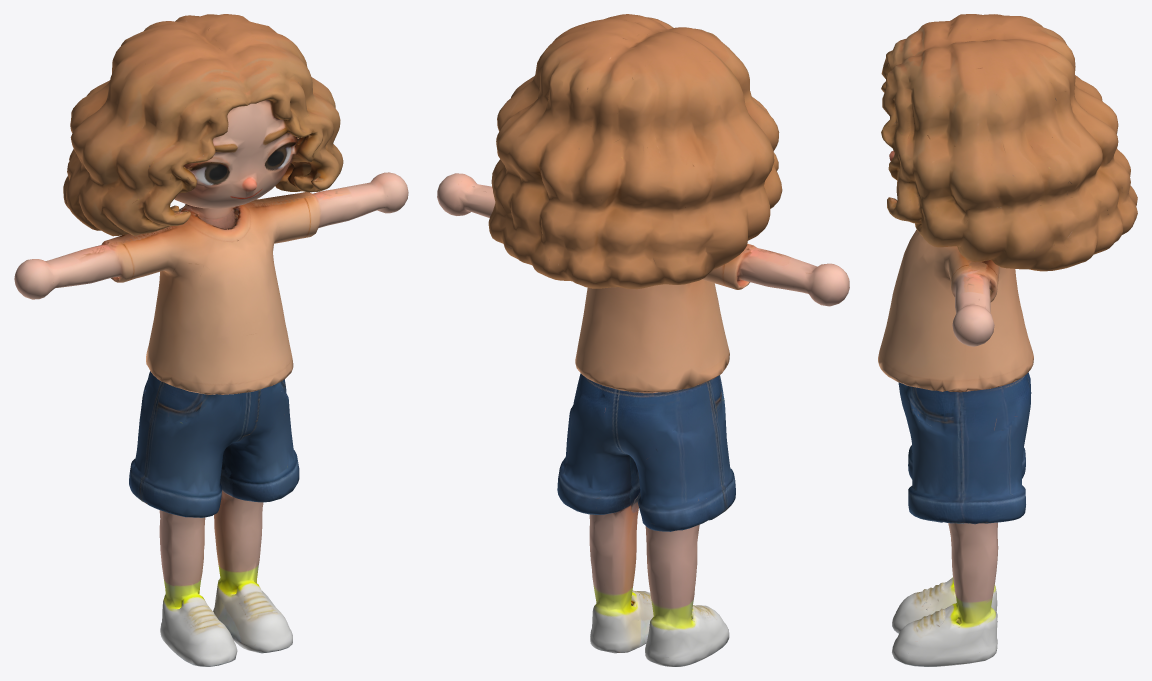
File: nb_guide_animated.fbx
The picture shows the model from 3 angles, left to right: view 1: azimuth 30°, elevation 25°; view 2: azimuth 150°, elevation 25°; view 3: azimuth 270°, elevation 25°; orthographic projection. The views are drawn at different scales.
Visible parts, largest first — view 1: Mesh_0; view 2: Mesh_0; view 3: Mesh_0.
Boxes of the visible parts, <box> form: Mesh_0: <box>14,14,408,666</box>; Mesh_0: <box>437,14,849,666</box>; Mesh_0: <box>878,14,1137,666</box>.
Bounding box in the file's own units: 136 × 201 × 77.19.
Materials: 1 (1 with a texture image).
